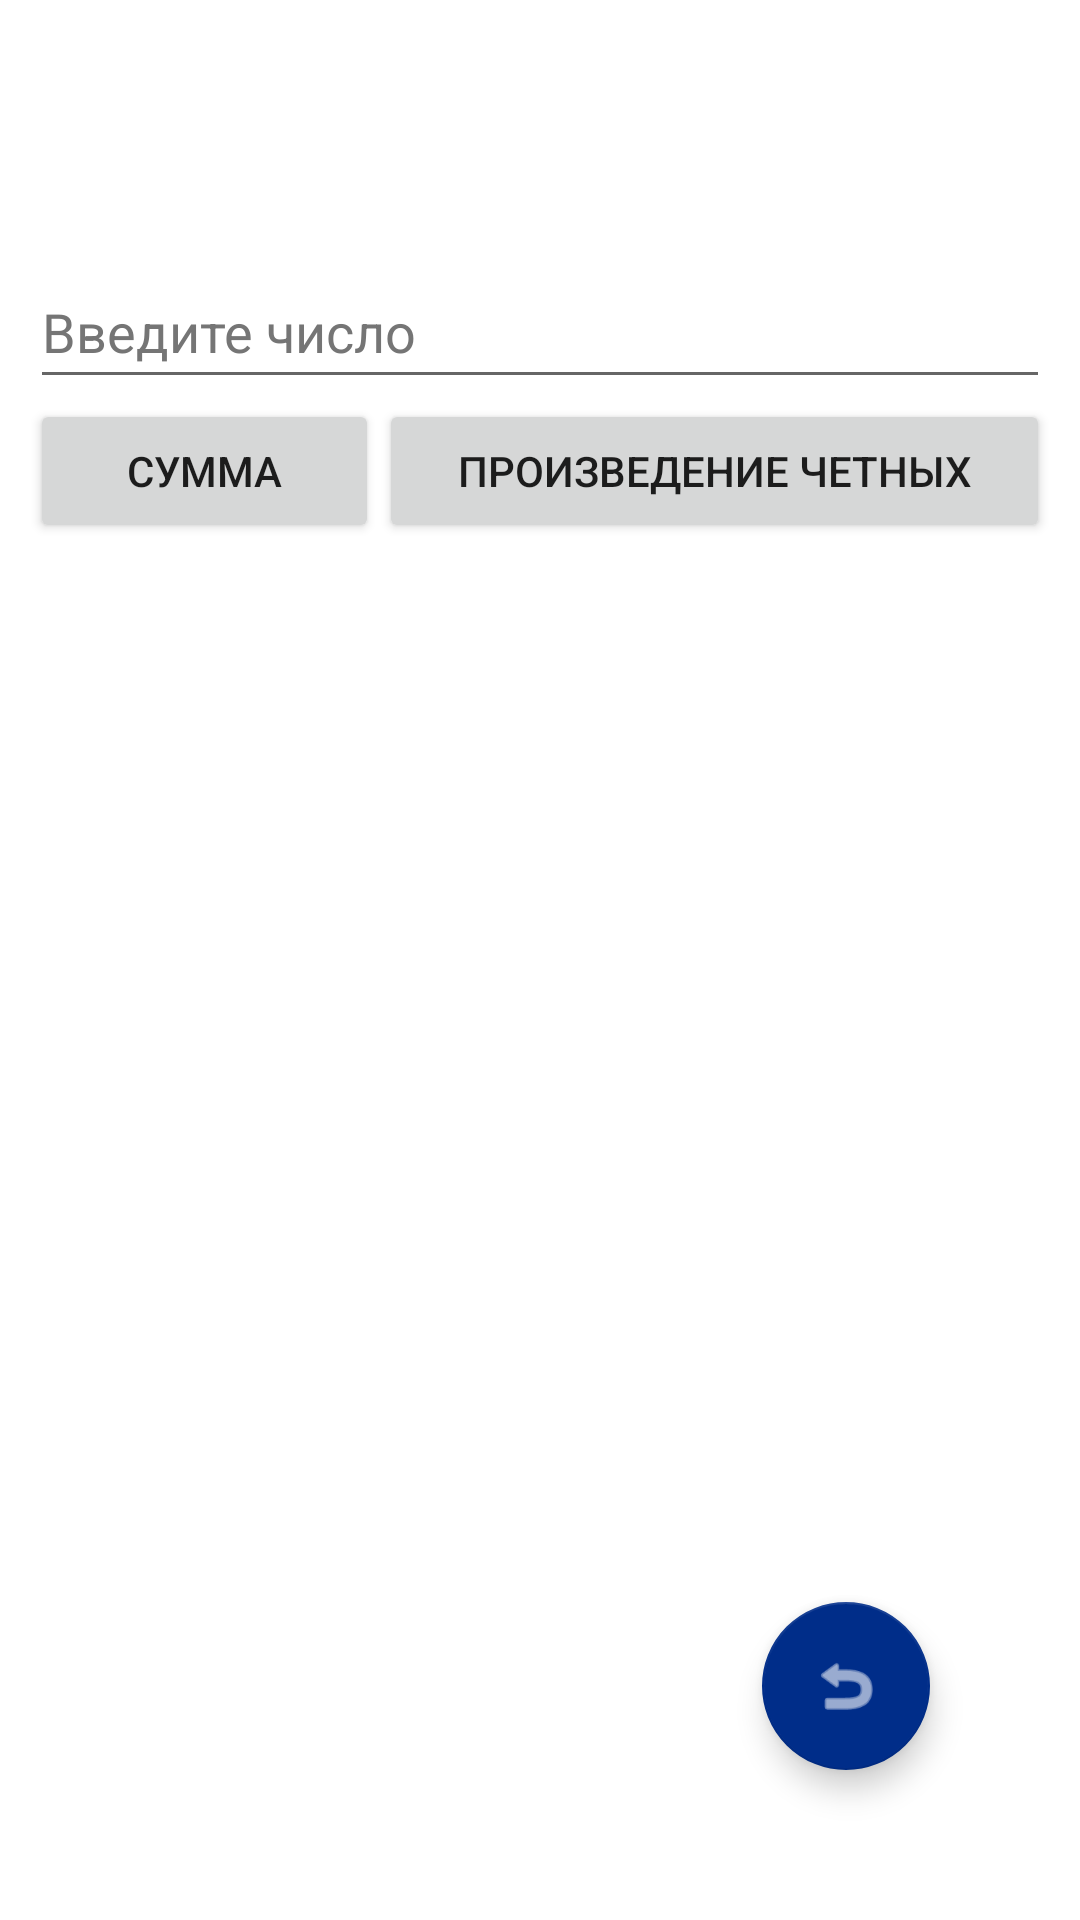

Screen size 1080px×1920px. Icon name, then its box in pixels as [x1,y1,x2,y2]:
revert: [762,1602,930,1770]
